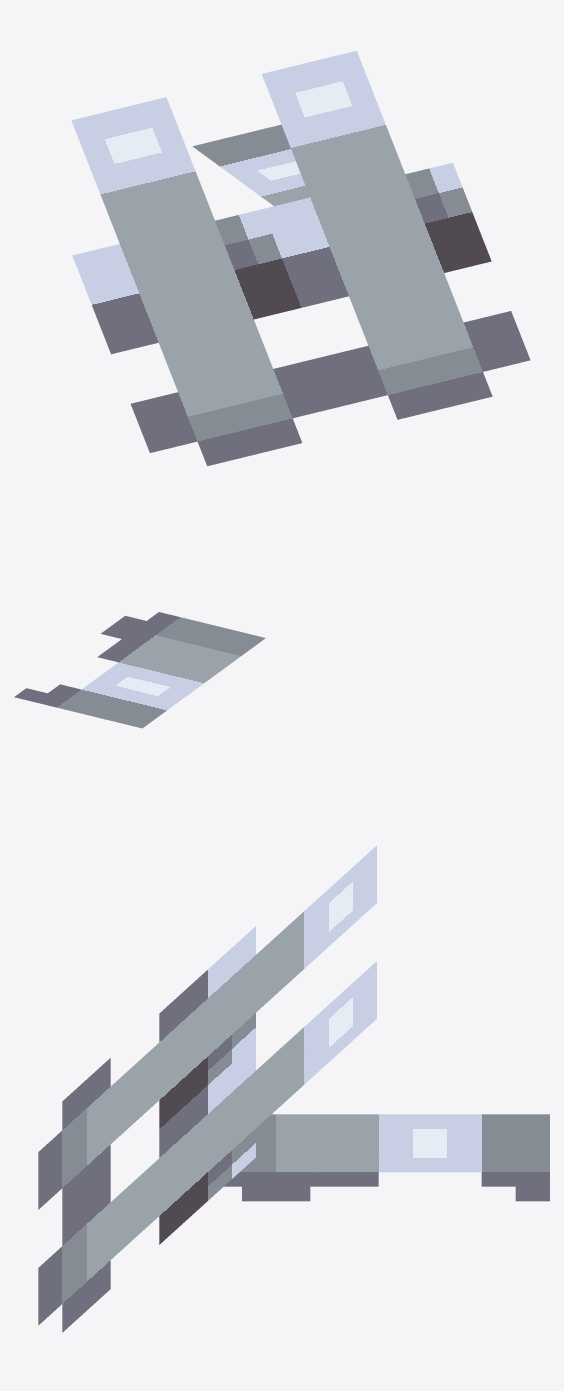
3 renders of one model, top to bottom at view 1: azimuth 30°, elevation 25°; view 2: azimuth 150°, elevation 25°; view 3: azimuth 270°, elevation 25°, orthographic. The views are drawn at different scales.
Bounding box in the file's own units: 1 × 0.707 × 0.9785.
Materials: 1 (1 with a texture image).
